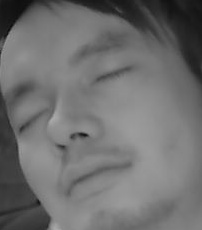blink: (17, 106, 55, 132), (93, 63, 130, 86)
mouth: (57, 153, 134, 199)
